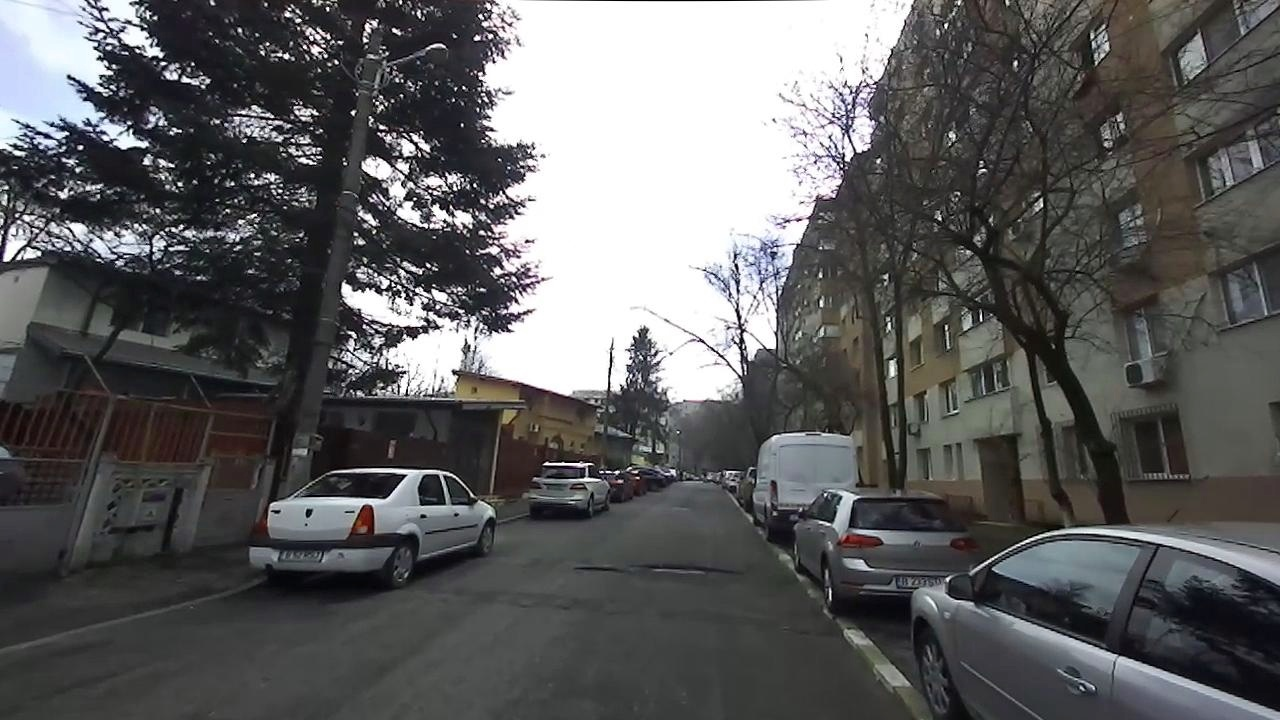pothole: (639, 562, 737, 580), (573, 563, 620, 572)
